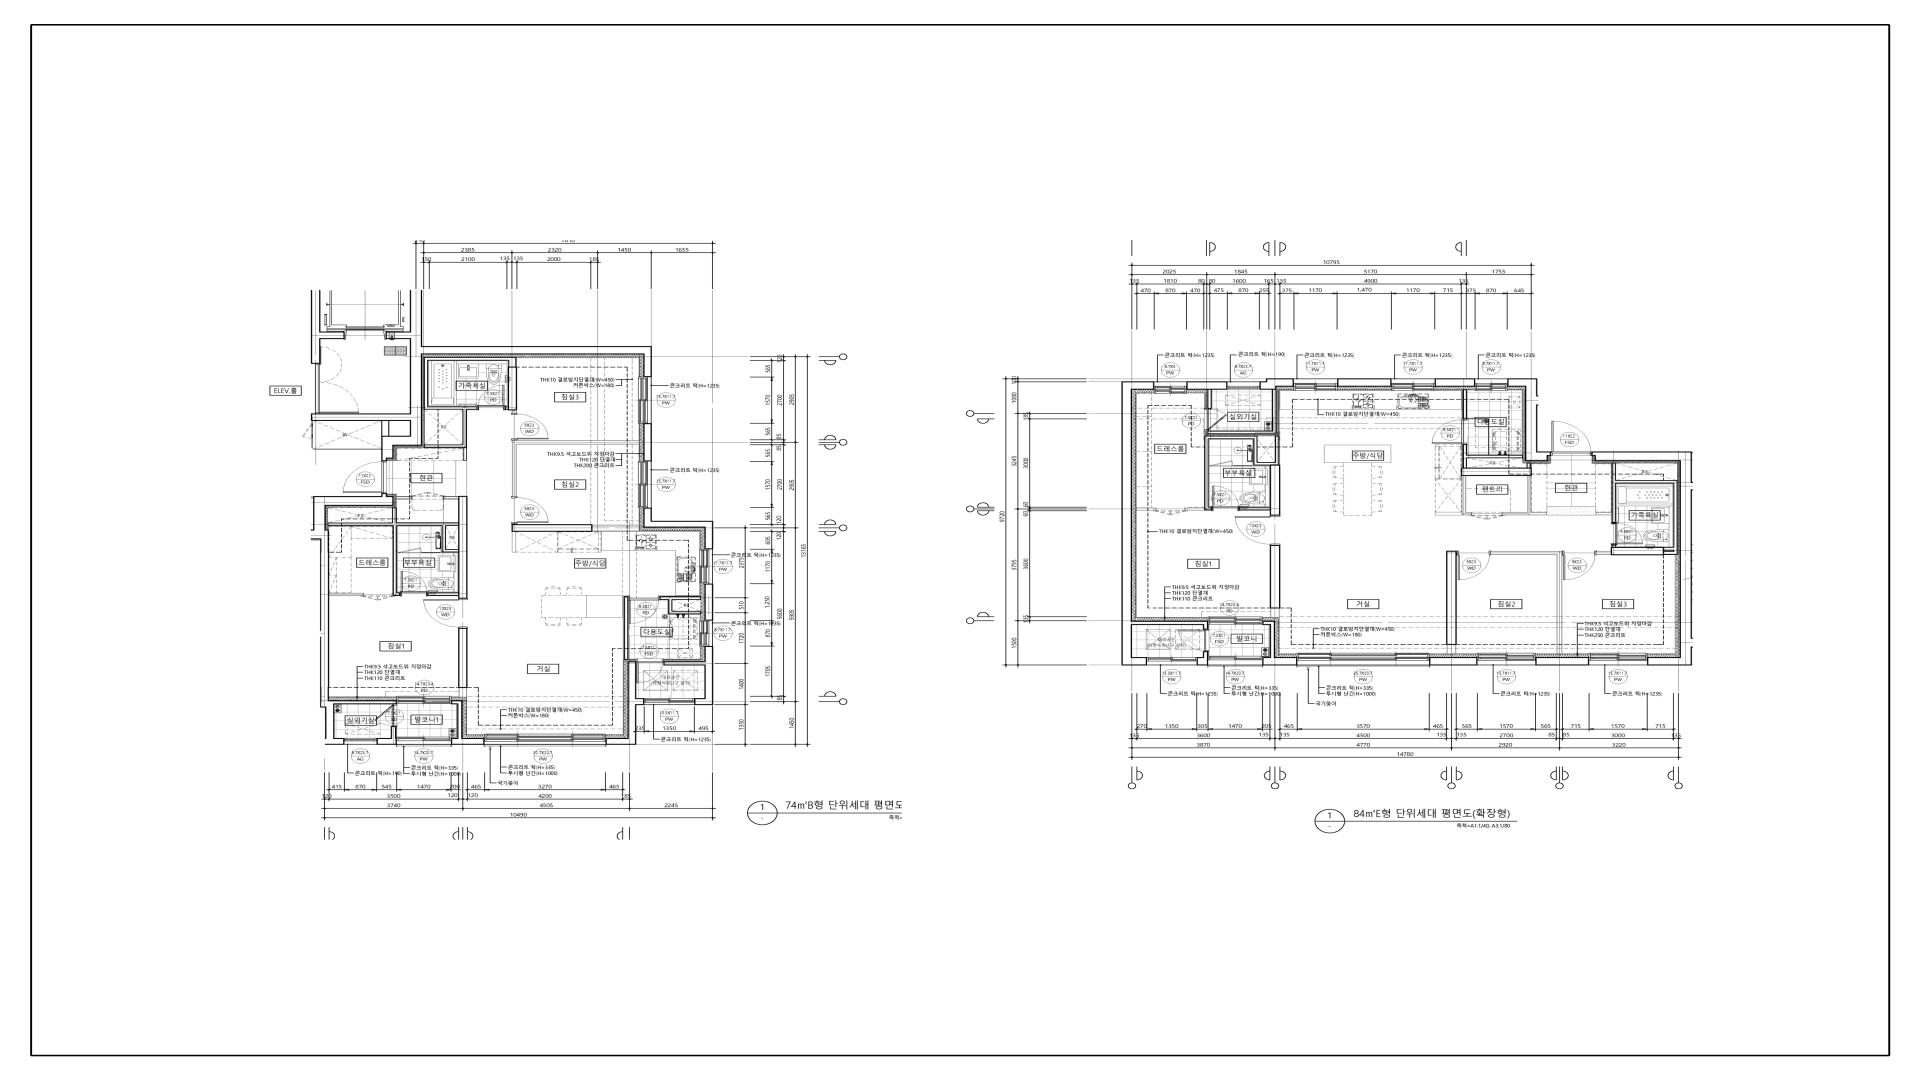door: (315, 364, 359, 414), (342, 462, 388, 493), (1551, 421, 1592, 456), (423, 599, 468, 629), (1234, 516, 1280, 545), (512, 497, 549, 525), (1457, 551, 1491, 580), (512, 414, 549, 440), (1563, 551, 1596, 580), (1432, 419, 1468, 444), (629, 596, 661, 624), (1212, 485, 1240, 512), (400, 571, 429, 596), (1611, 522, 1643, 545), (1178, 629, 1209, 651), (477, 385, 505, 410), (636, 659, 663, 684), (1204, 409, 1226, 431), (375, 704, 397, 727), (1154, 508, 1187, 516), (363, 593, 393, 601), (1472, 512, 1502, 520), (1209, 460, 1233, 467), (398, 547, 422, 554)
wall: (311, 290, 651, 462), (1120, 381, 1208, 666), (1592, 451, 1692, 666), (313, 493, 397, 745), (327, 496, 468, 599), (423, 357, 517, 460), (1435, 444, 1547, 516), (1596, 463, 1677, 555), (1187, 436, 1280, 516), (1491, 551, 1563, 654), (512, 440, 640, 497), (1507, 378, 1551, 462), (607, 662, 645, 745), (1208, 390, 1276, 434), (663, 646, 713, 705), (644, 508, 713, 549), (311, 290, 344, 364), (1262, 621, 1298, 666), (451, 700, 484, 745), (1447, 551, 1457, 654), (512, 525, 640, 531), (659, 596, 702, 615), (1270, 545, 1280, 617), (458, 629, 468, 698), (1535, 657, 1589, 666), (1429, 657, 1478, 666), (1337, 378, 1391, 386), (1259, 378, 1294, 390), (1187, 381, 1228, 390), (377, 727, 397, 745), (624, 596, 629, 659), (704, 584, 713, 620), (1435, 378, 1476, 386), (644, 423, 651, 462), (1196, 651, 1208, 666), (1462, 389, 1468, 419), (330, 593, 363, 596), (1208, 390, 1212, 409), (1130, 508, 1154, 510), (396, 496, 411, 500), (1233, 465, 1253, 467)
window: (1298, 653, 1429, 667), (484, 735, 607, 746), (1589, 653, 1647, 666), (1478, 653, 1535, 666), (1208, 655, 1262, 667), (638, 462, 651, 508), (638, 377, 651, 423), (1294, 378, 1337, 392), (1391, 378, 1435, 392), (397, 737, 452, 746), (700, 549, 713, 584), (1147, 657, 1196, 666), (1154, 381, 1187, 394), (1208, 617, 1262, 625), (397, 696, 451, 704), (1476, 378, 1507, 392), (700, 620, 713, 646), (644, 699, 695, 705), (1228, 381, 1259, 389), (344, 738, 377, 745)
